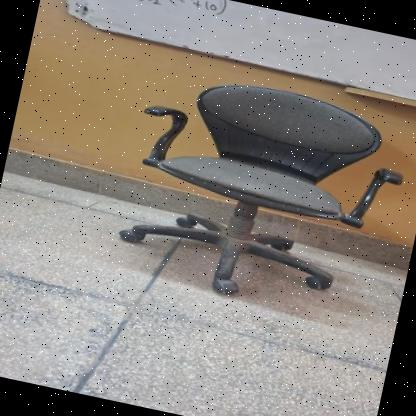chair: (100, 57, 416, 331)
